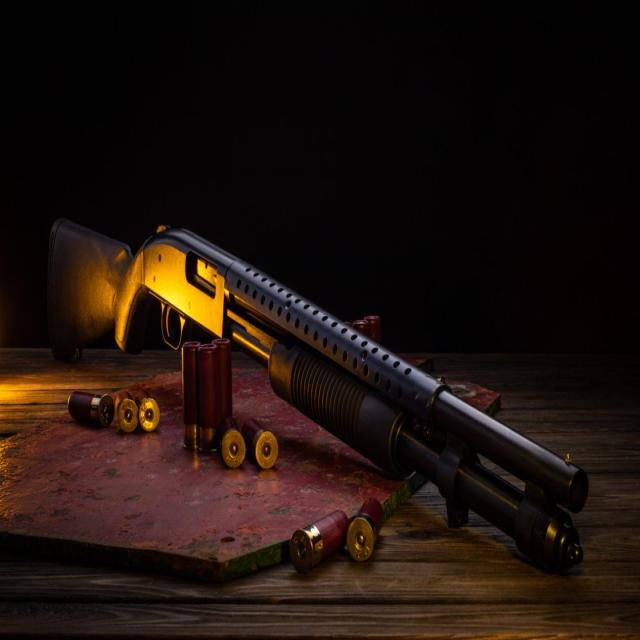ShotGun: (48, 218, 589, 578)
